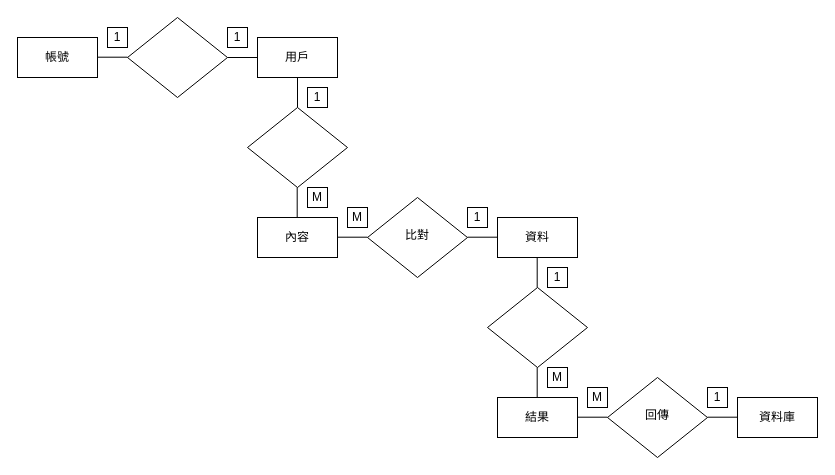
Some shapes in this 835 by 475 pixel diagram are drawn without their labels. Each missing label, with the box of its shape:
抓取: (246, 106, 348, 188)
爬蟲: (486, 286, 588, 368)
註冊/登入: (126, 16, 228, 98)
